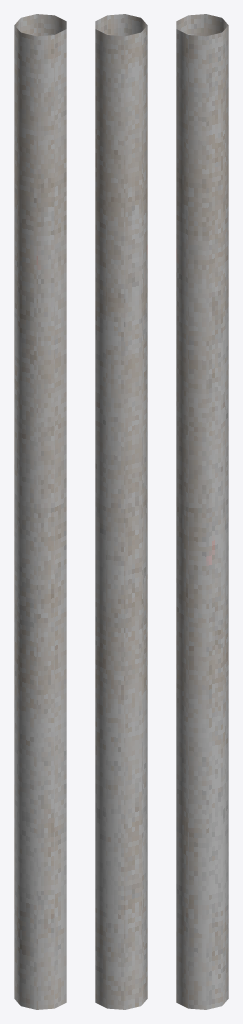
Rendered from Pipe.glb.
The picture shows the model from 3 angles, left to right: view 1: azimuth 30°, elevation 25°; view 2: azimuth 210°, elevation 25°; view 3: azimuth 330°, elevation 25°; orthographic projection.
Visible parts, largest first — view 1: Pipe; view 2: Pipe; view 3: Pipe.
Part boxes in pixels (x1,y1,x2,y2): Pipe: (14, 14, 66, 1009); Pipe: (95, 14, 147, 1009); Pipe: (176, 14, 228, 1009).
Bounding box in the file's own units: 0.0639 × 1.3 × 0.063.
1 material, 1 textured.
